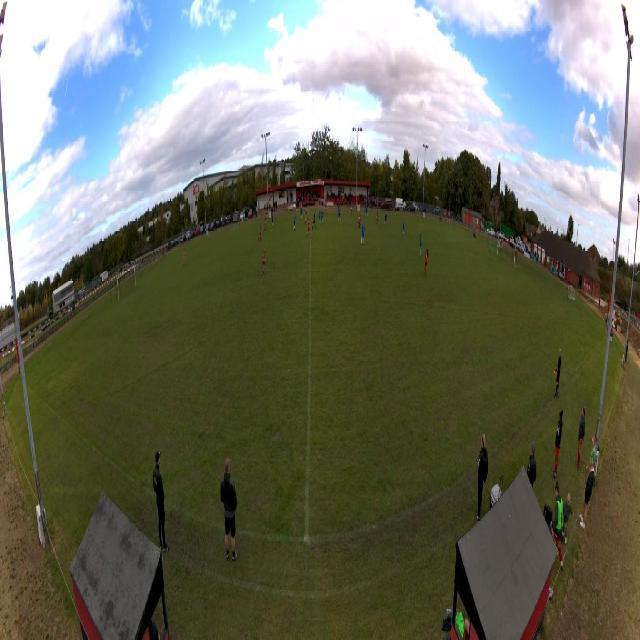ball: (330, 156, 332, 161)
player: (261, 250, 266, 278), (306, 216, 312, 237), (360, 222, 365, 246), (425, 248, 429, 276), (312, 209, 317, 231), (258, 223, 263, 244), (418, 233, 422, 257), (293, 212, 297, 231), (401, 219, 405, 238), (337, 206, 341, 224), (182, 249, 186, 267), (383, 213, 388, 227), (357, 213, 361, 230), (318, 208, 322, 225), (320, 208, 324, 225), (304, 208, 308, 225), (375, 211, 379, 227), (364, 203, 368, 219), (324, 201, 328, 217), (489, 237, 492, 254), (300, 204, 303, 220), (271, 213, 274, 228), (350, 202, 353, 216), (264, 213, 266, 231)
